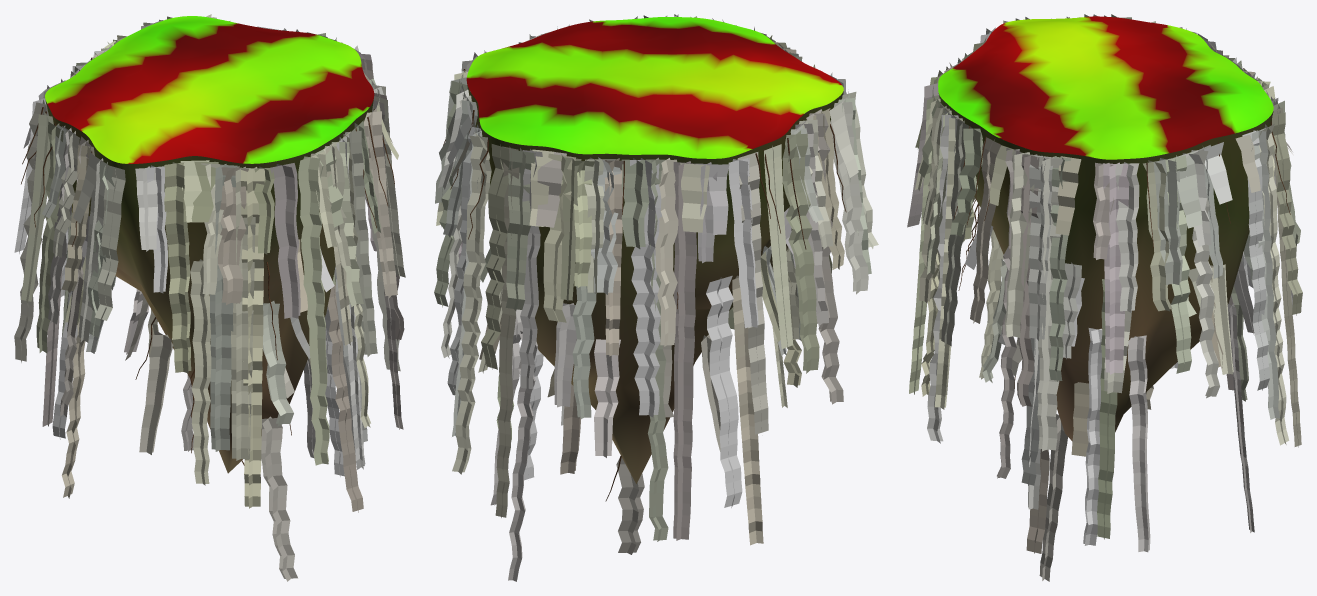
Rendered from SM_H04_Floater04.fbx.
3 views of the same model, side by side, from view 1: azimuth 30°, elevation 25°; view 2: azimuth 150°, elevation 25°; view 3: azimuth 270°, elevation 25° (orthographic). The views are drawn at different scales.
Visible parts, largest first — view 1: SM_H04_Floater04_Ivy, SM_H04_Floater04; view 2: SM_H04_Floater04_Ivy, SM_H04_Floater04; view 3: SM_H04_Floater04_Ivy, SM_H04_Floater04.
Boxes of the visible parts, left/top/right/bottom form: SM_H04_Floater04_Ivy: left=14, top=14, right=405, bottom=581; SM_H04_Floater04: left=45, top=16, right=374, bottom=473; SM_H04_Floater04_Ivy: left=434, top=14, right=878, bottom=581; SM_H04_Floater04: left=466, top=17, right=843, bottom=483; SM_H04_Floater04_Ivy: left=907, top=14, right=1302, bottom=581; SM_H04_Floater04: left=938, top=16, right=1273, bottom=441.
Size of the model in its own units: 30.62 by 40.78 by 30.5.
